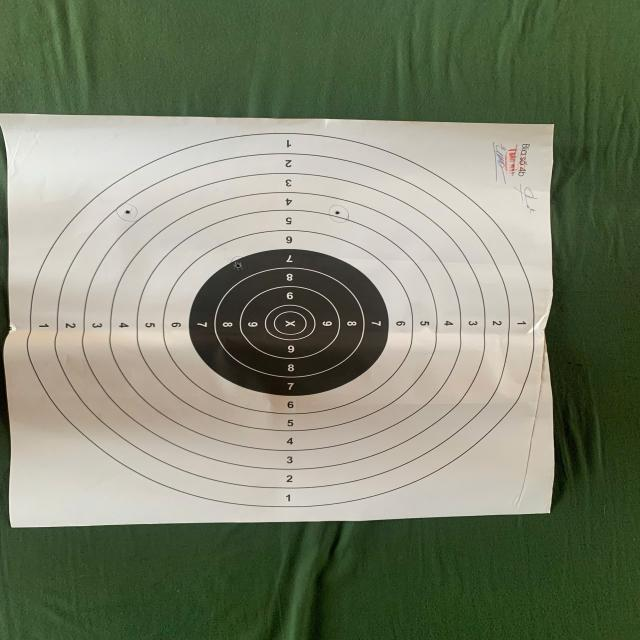bullet: (234, 262, 243, 270), (124, 209, 130, 214), (334, 210, 340, 215)
target: (0, 114, 554, 527)
